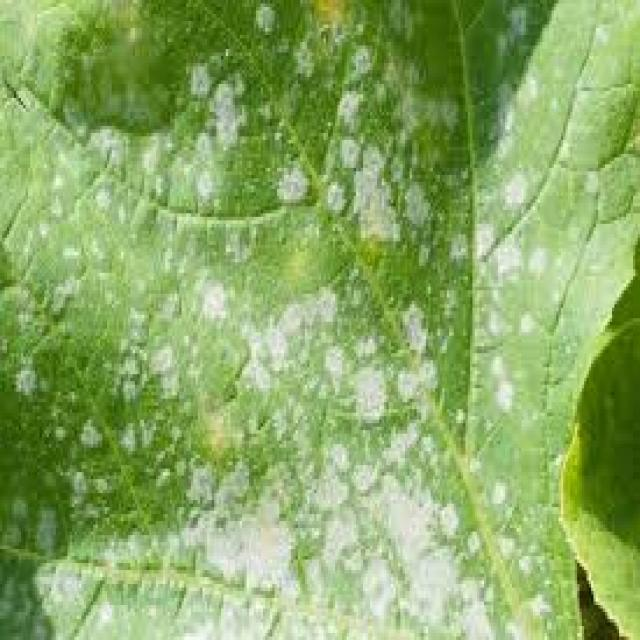Powdery_mildew_on_lettuce: (157, 248, 504, 617)
